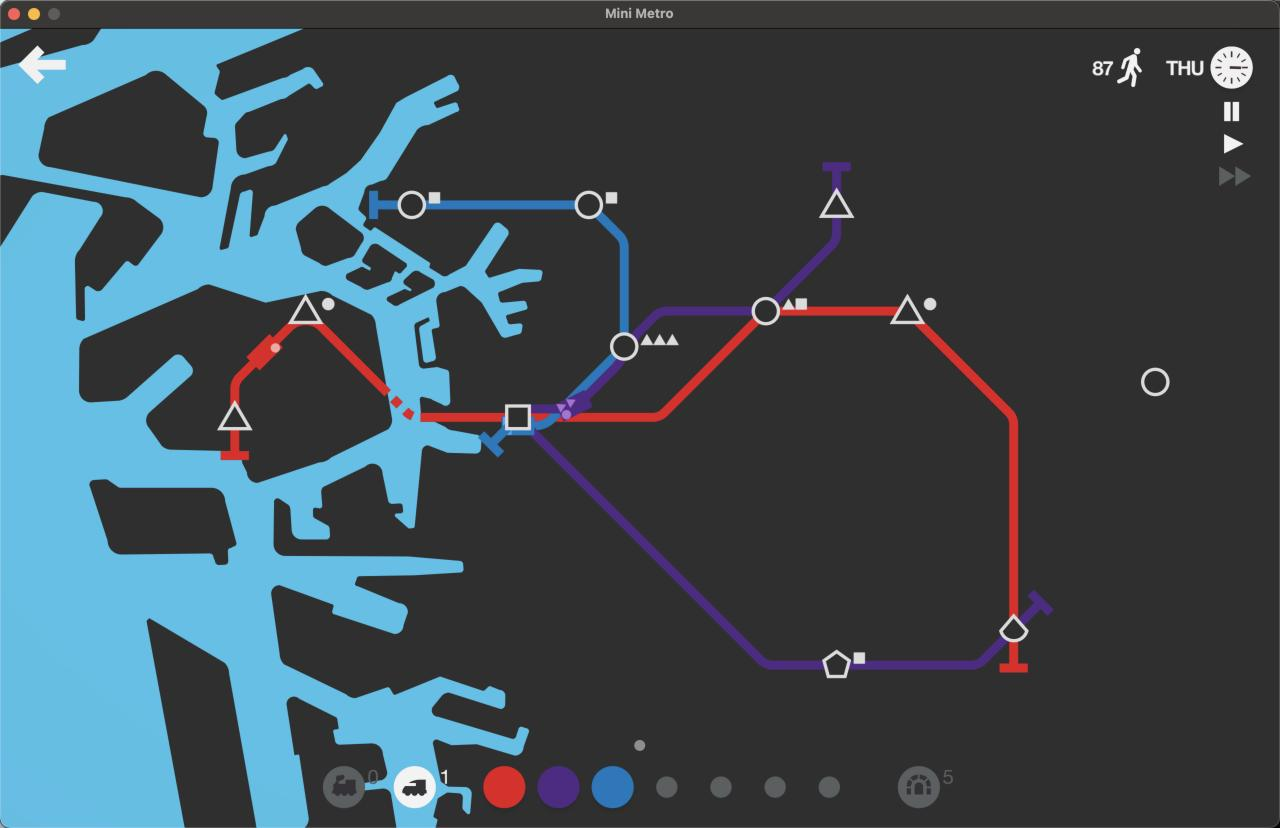CIRCLE: (609, 331, 639, 362), (397, 190, 427, 220), (1141, 367, 1171, 397), (751, 296, 780, 326), (574, 190, 603, 219)
PENTAGON: (821, 649, 851, 679)
SQUARE: (504, 403, 532, 434)
TRIANGLE: (889, 293, 927, 325), (819, 187, 855, 219), (287, 293, 323, 325), (217, 400, 252, 432)
WEDGE: (999, 613, 1030, 644)
